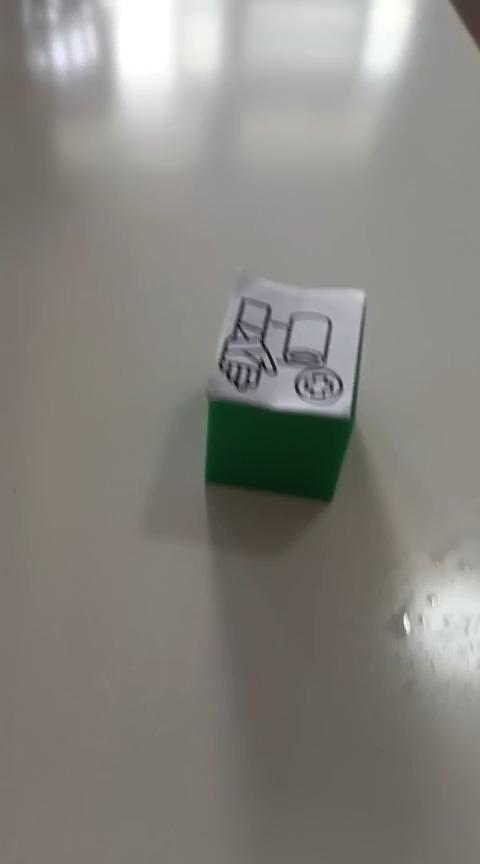Bandages: (203, 273, 367, 503)
